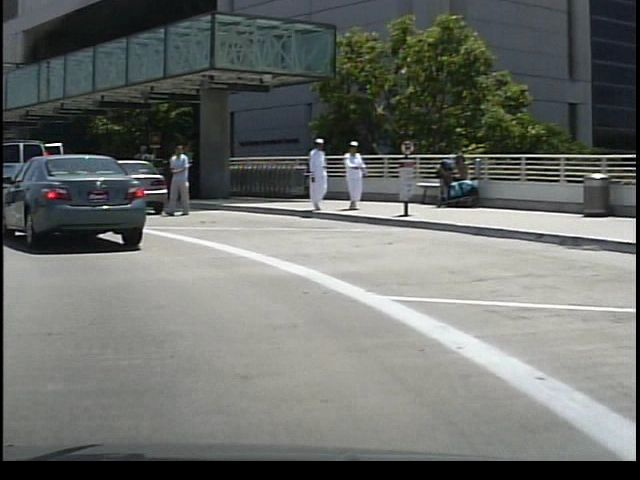person: (163, 139, 194, 221), (337, 137, 367, 214), (301, 134, 326, 218)
